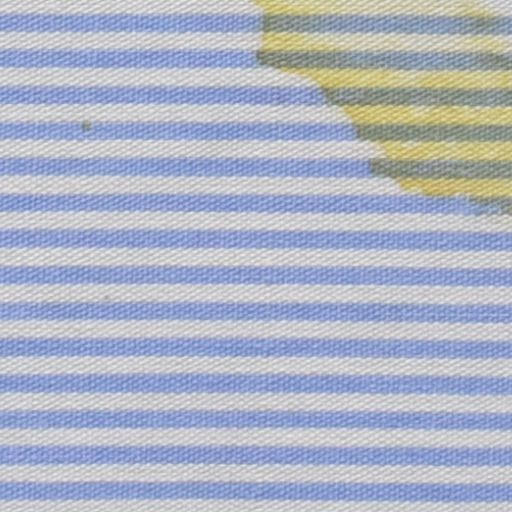defect: (260, 1, 512, 227)
